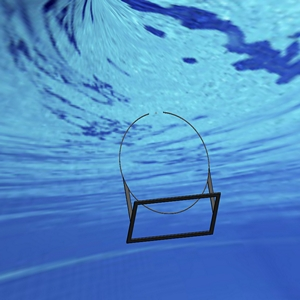circle: (117, 110, 222, 244)
